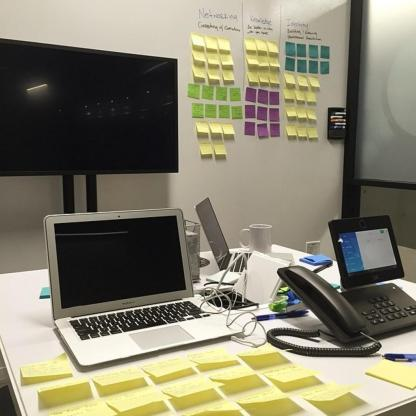board: (43, 207, 246, 368), (194, 196, 295, 276)
